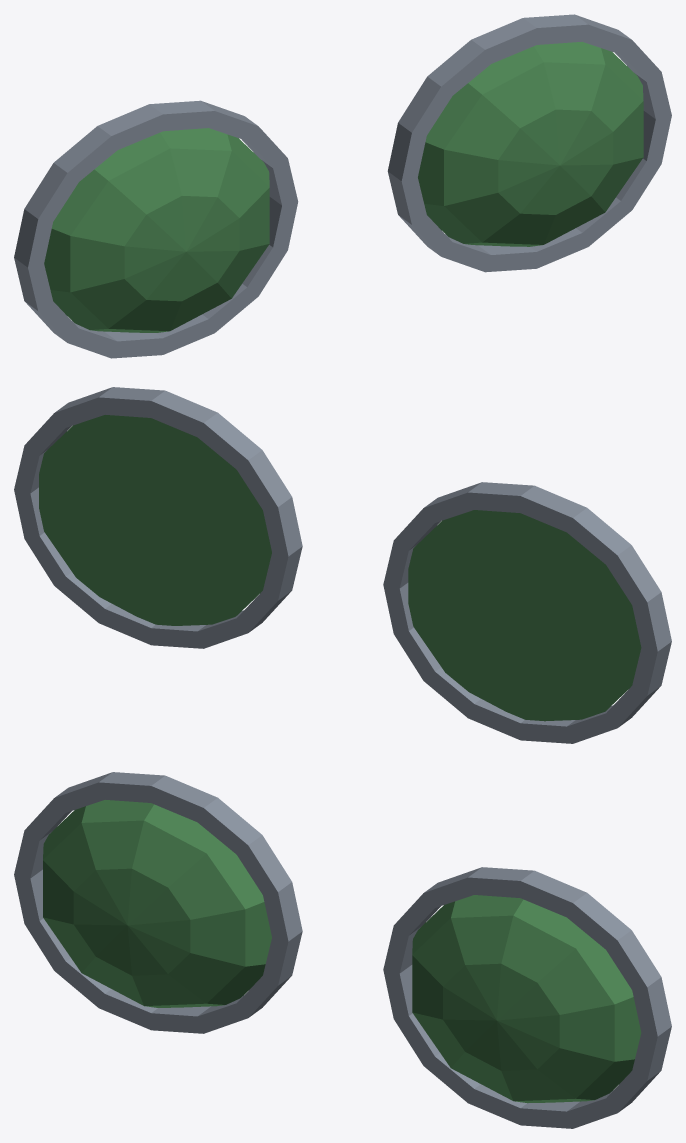
Rendered from armor_guard_legs_uncommon_orc.glb.
3 views of the same model, one above another, from view 1: azimuth 30°, elevation 25°; view 2: azimuth 150°, elevation 25°; view 3: azimuth 330°, elevation 25° (orthographic).
Visible parts, largest first — view 1: armor_guard_legs_uncommon_orc__calf_l, armor_guard_legs_uncommon_orc__calf_r; view 2: armor_guard_legs_uncommon_orc__calf_l, armor_guard_legs_uncommon_orc__calf_r; view 3: armor_guard_legs_uncommon_orc__calf_l, armor_guard_legs_uncommon_orc__calf_r.
Part boxes in pixels (<box>): armor_guard_legs_uncommon_orc__calf_l: <box>387,14,671,272</box>; armor_guard_legs_uncommon_orc__calf_r: <box>14,100,298,358</box>; armor_guard_legs_uncommon_orc__calf_l: <box>14,387,302,648</box>; armor_guard_legs_uncommon_orc__calf_r: <box>383,482,671,743</box>; armor_guard_legs_uncommon_orc__calf_l: <box>383,867,671,1128</box>; armor_guard_legs_uncommon_orc__calf_r: <box>14,772,302,1033</box>.
Bounding box in the file's own units: 31.67 × 11.4 × 3.63.
